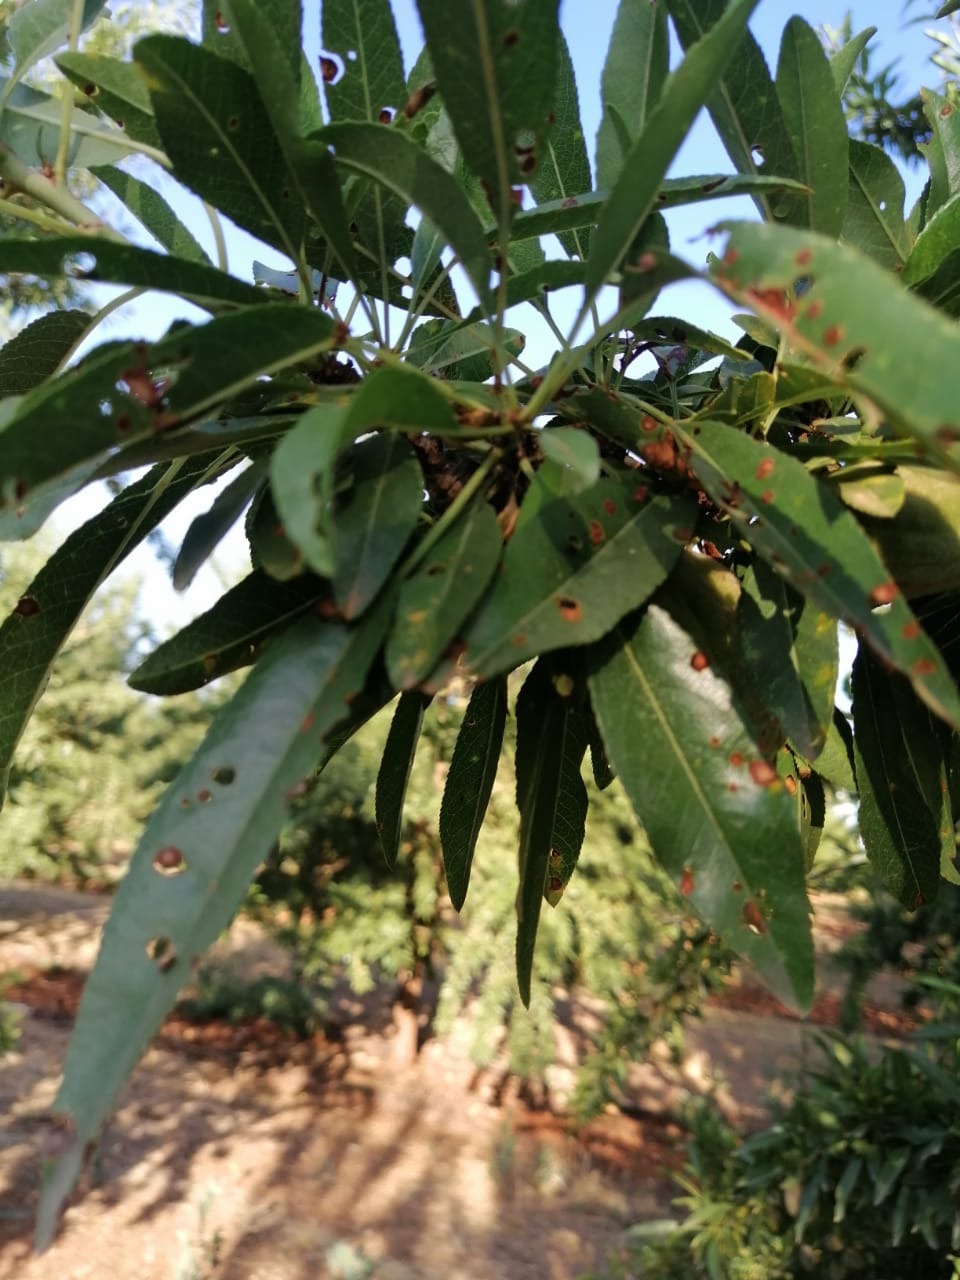coryneum: (33, 577, 403, 1258), (586, 602, 818, 1018), (665, 418, 960, 727), (464, 464, 698, 680)
